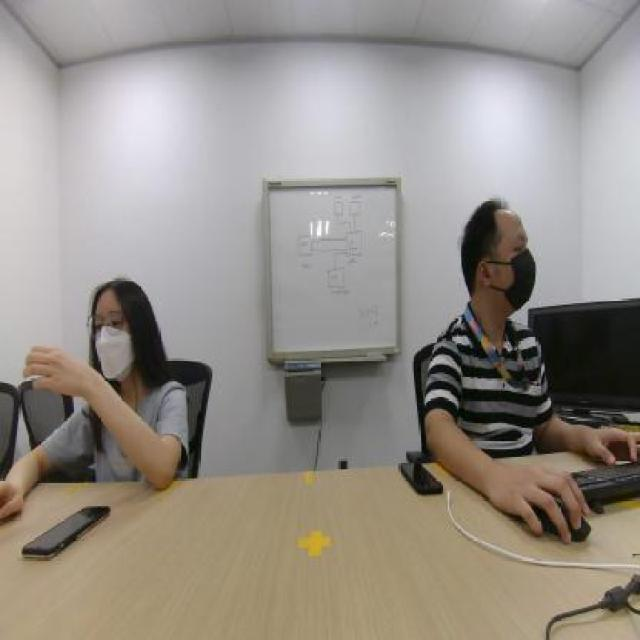Person: (43, 198, 194, 482), (428, 146, 546, 468)
